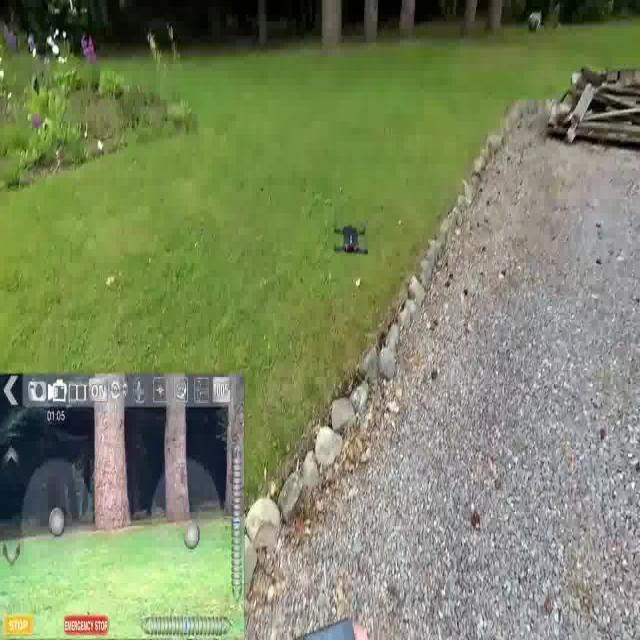drone: (328, 218, 376, 266)
